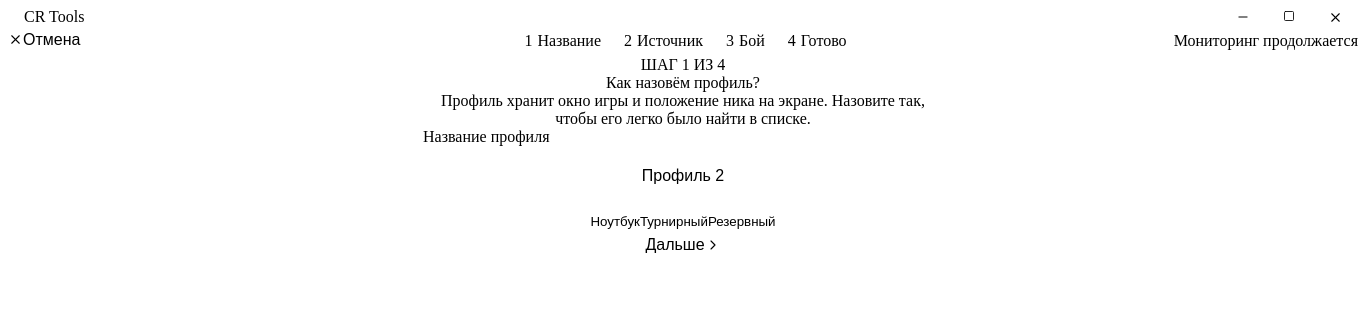
it: setup flow: new profile › shows a failed capture session with a way back to the source
Click the button "Дальше" at {"x": 683, "y": 245}, box [645,236,720,254]
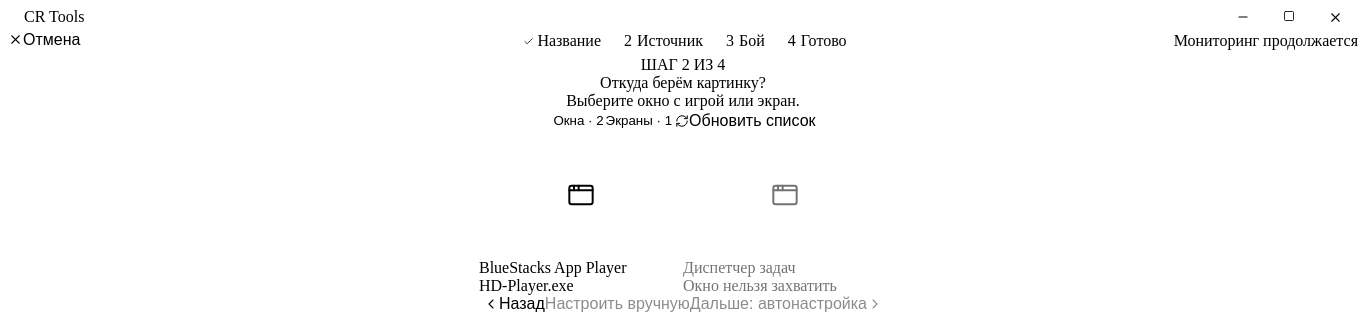
Click the button "BlueStacks App Player HD-Player.exe" at {"x": 581, "y": 213}, box [479,131,683,294]
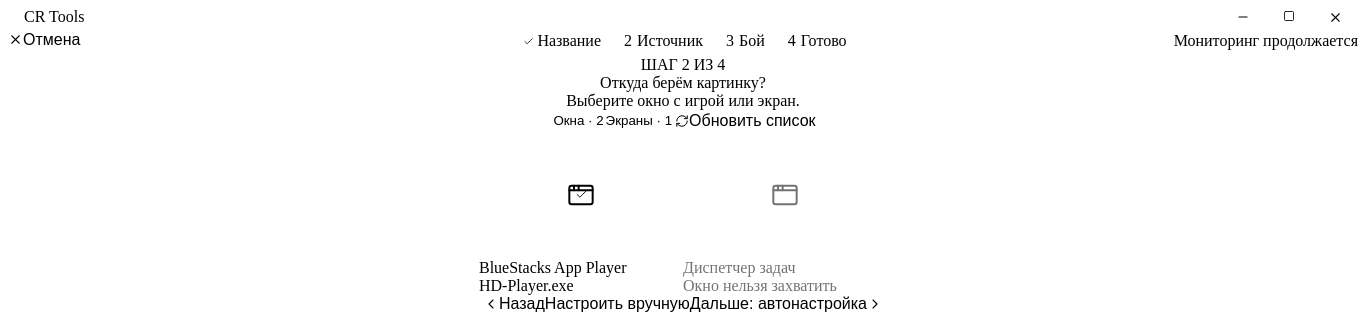
Result: the button "Настроить вручную" is enabled
Click the button "Настроить вручную" at {"x": 617, "y": 304}, box [545,294,690,312]
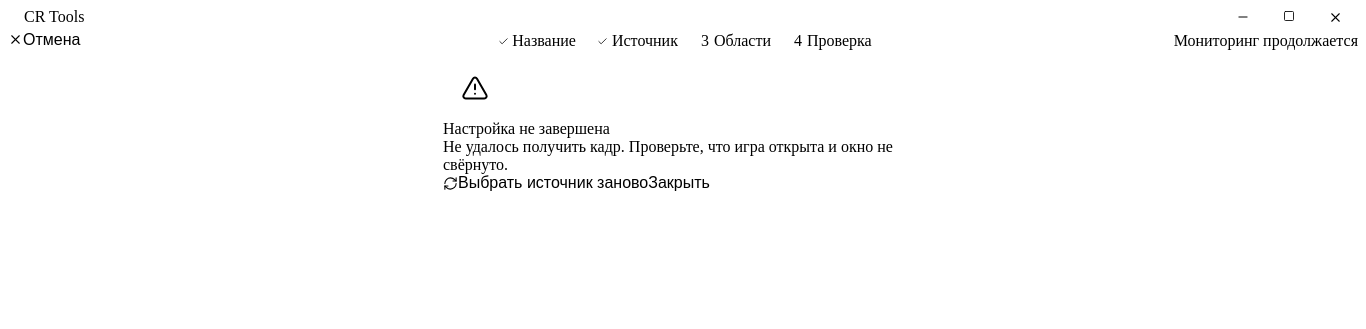
Result: the heading "Настройка не завершена" is shown at [443,120,610,137]
Result: the text "Не удалось получить кадр. Проверьте, что игра открыта и окно не свёрнуто." is shown at [443,138,923,174]
Click the button "Выбрать источник заново" at {"x": 546, "y": 183}, box [443,174,648,192]
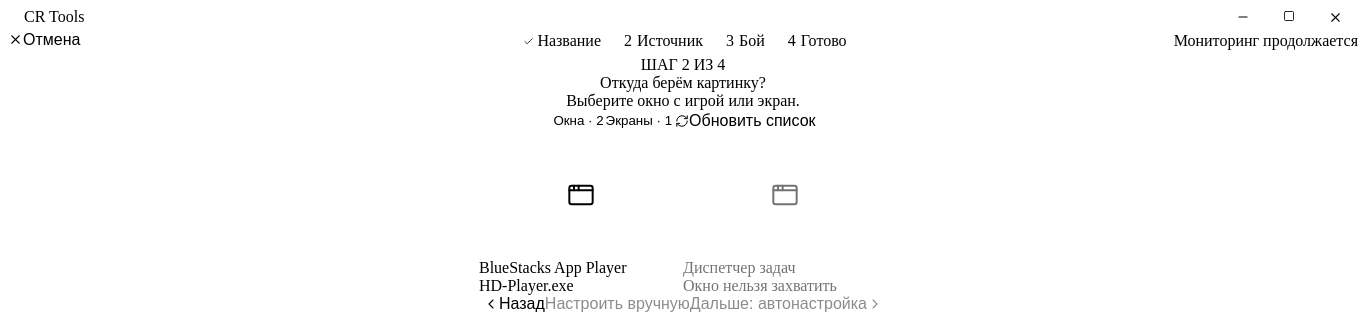
Result: the heading "Откуда берём картинку?" is shown at [600,74,766,92]
